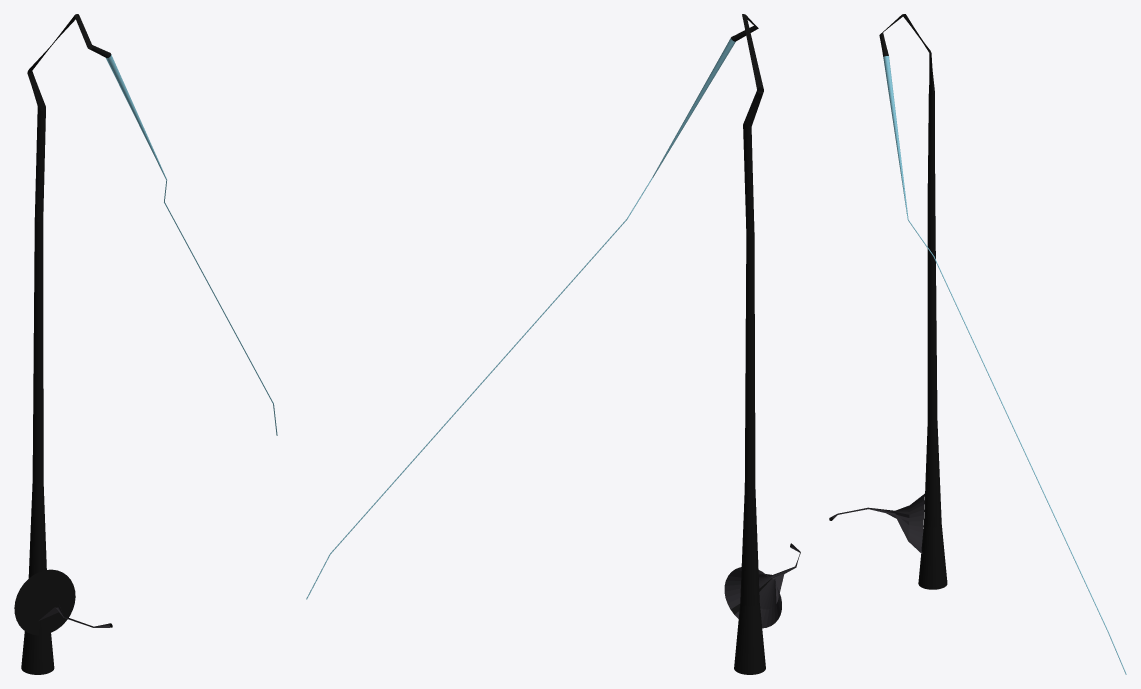
The model's file is Canneàpèche.fbx.
3 renders of one model, left to right at view 1: azimuth 30°, elevation 25°; view 2: azimuth 150°, elevation 25°; view 3: azimuth 270°, elevation 25°, orthographic. The views are drawn at different scales.
Visible parts, largest first — view 1: Cylinder; view 2: Cylinder; view 3: Cylinder.
Boxes of the visible parts, x1=… form: Cylinder: x1=14, y1=14, x2=277, y2=674; Cylinder: x1=306, y1=14, x2=800, y2=674; Cylinder: x1=829, y1=14, x2=1126, y2=674.
Bounding box in the file's own units: 412 × 688 × 320.
